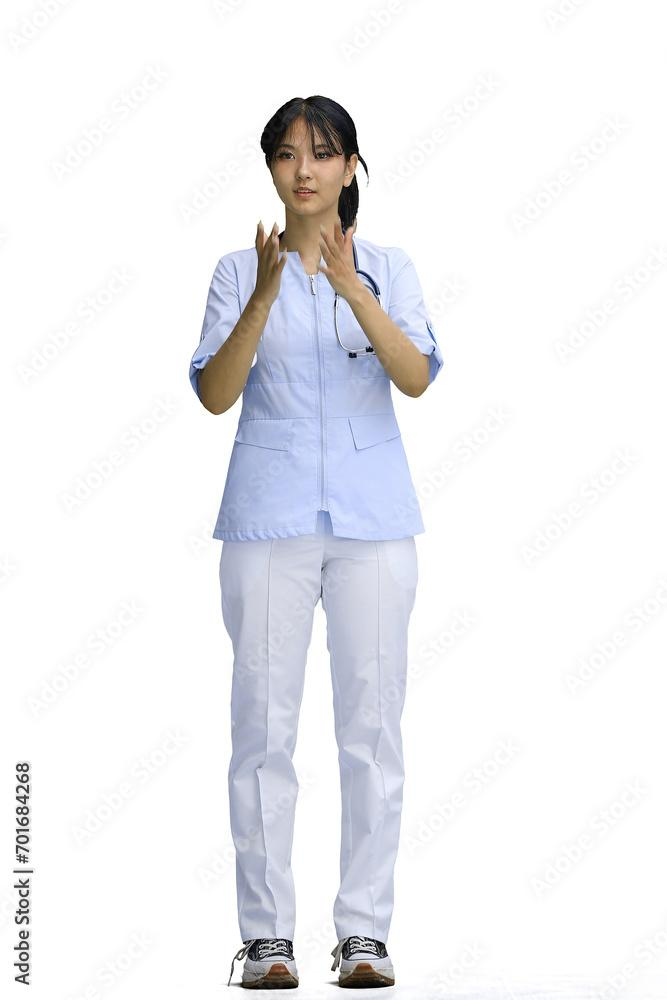Human: (147, 51, 532, 1000)
